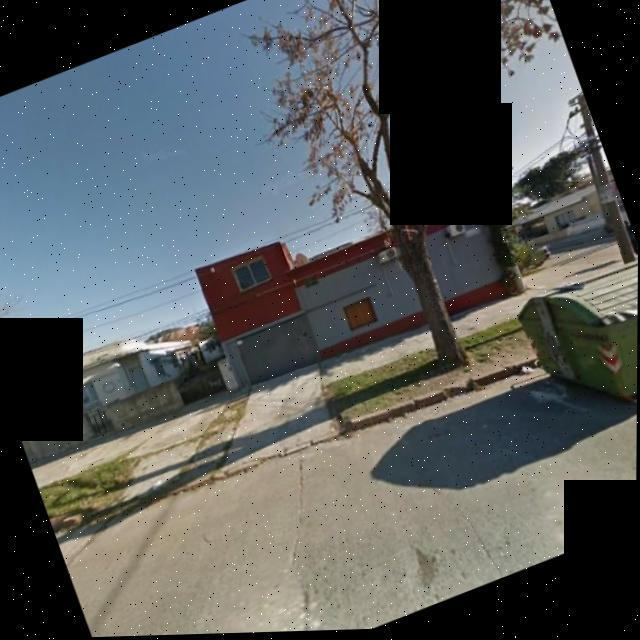bin: (477, 244, 638, 458)
